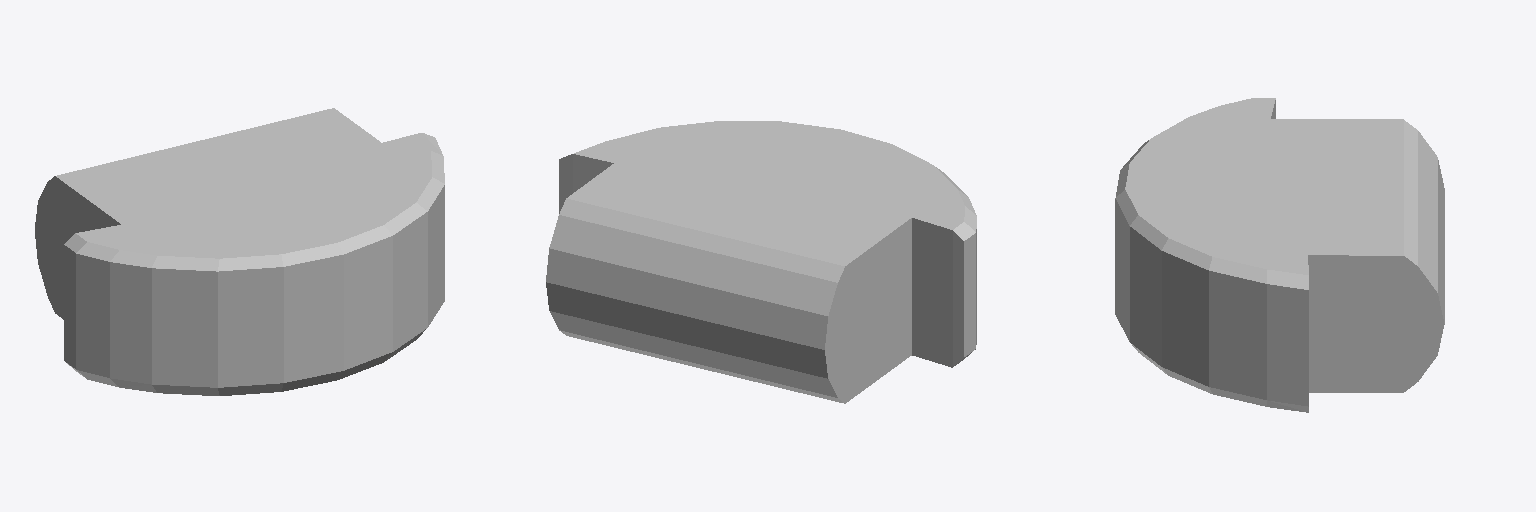
File: LAnklePitch.obj
3 renders of one model, left to right at view 1: azimuth 30°, elevation 25°; view 2: azimuth 150°, elevation 25°; view 3: azimuth 270°, elevation 25°, orthographic.
Visible parts, largest first — view 1: root; view 2: root; view 3: root.
Part boxes in pixels (left/top/right/bottom): root: left=35, top=108, right=444, bottom=395; root: left=546, top=121, right=976, bottom=403; root: left=1115, top=98, right=1444, bottom=412.
Size of the model in its own units: 84.13 by 28.52 by 61.82.